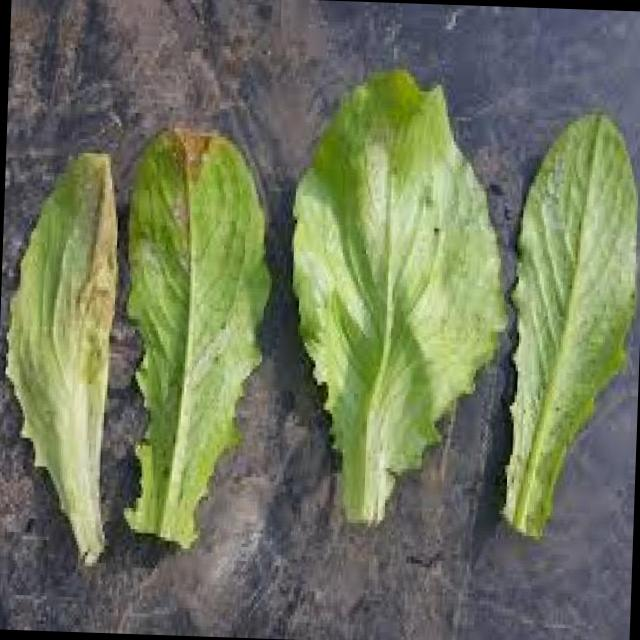Lettuce-Ready-to-Harvest: (294, 70, 504, 523), (126, 130, 270, 546), (505, 117, 634, 535), (7, 153, 117, 563)
